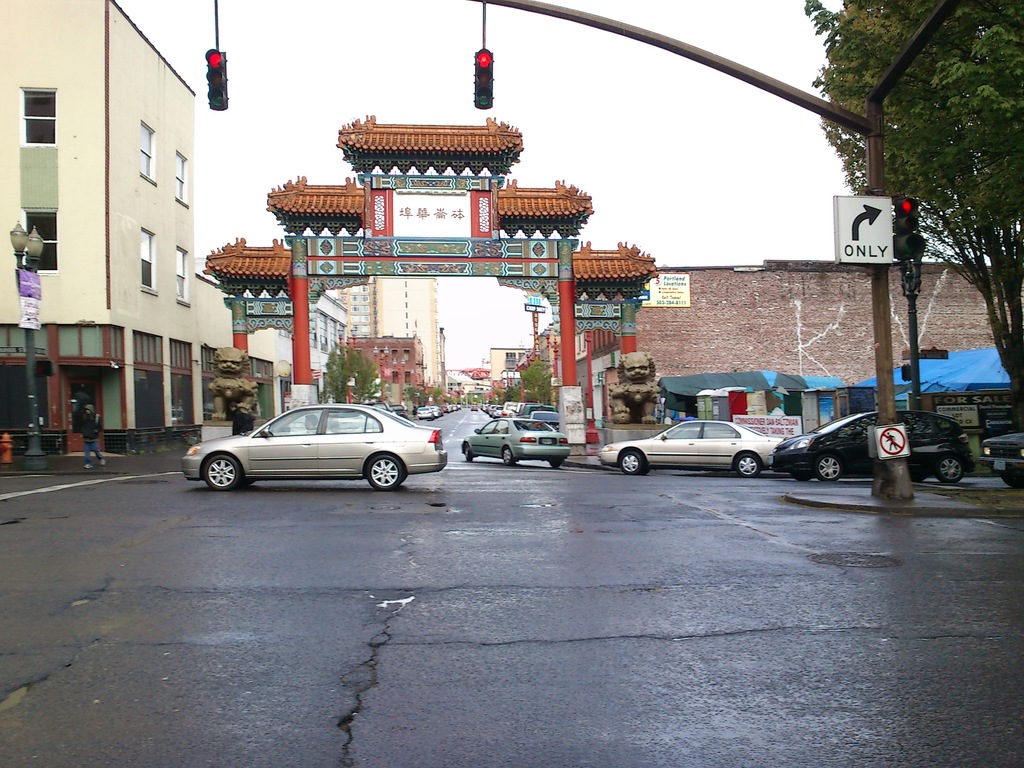red_light: (475, 49, 495, 68), (204, 50, 225, 66), (902, 198, 915, 214)
right_turn: (844, 198, 886, 243)
